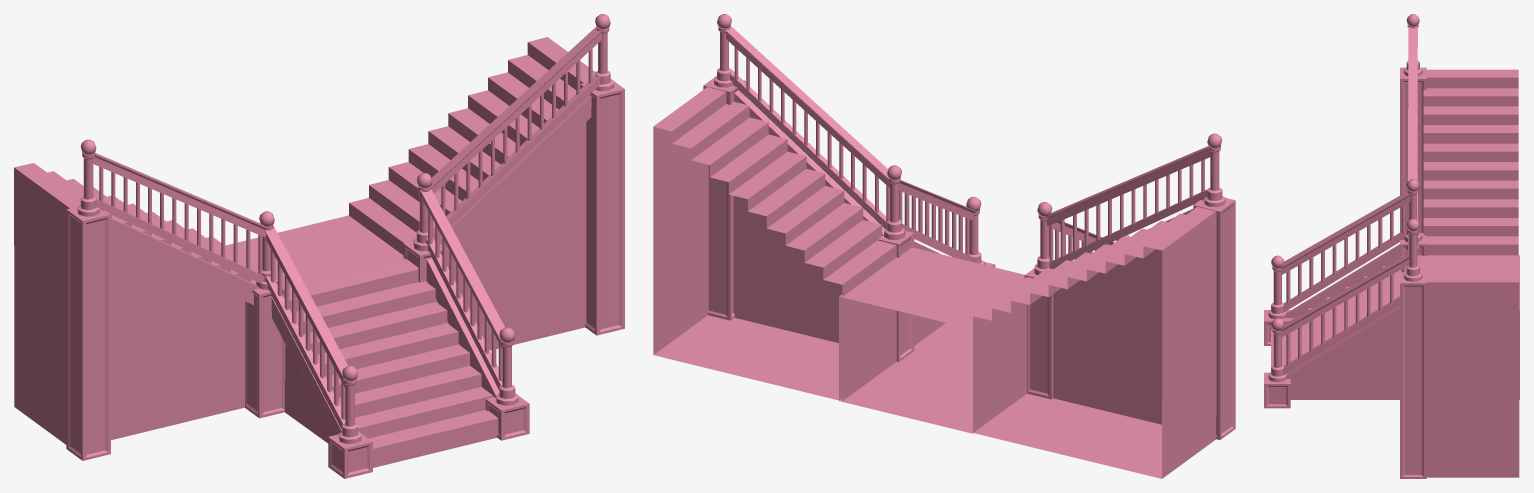
File: SM_Stairs_Improved.fbx
3 views of the same model, side by side, from view 1: azimuth 30°, elevation 25°; view 2: azimuth 150°, elevation 25°; view 3: azimuth 270°, elevation 25° (orthographic). The views are drawn at different scales.
Visible parts, largest first — view 1: SM_Stairs; view 2: SM_Stairs; view 3: SM_Stairs.
Boxes of the visible parts, x1=… form: SM_Stairs: x1=14, y1=14, x2=624, y2=478; SM_Stairs: x1=653, y1=14, x2=1235, y2=478; SM_Stairs: x1=1264, y1=14, x2=1519, y2=478.
Bounding box in the file's own units: 952 × 524 × 477.
